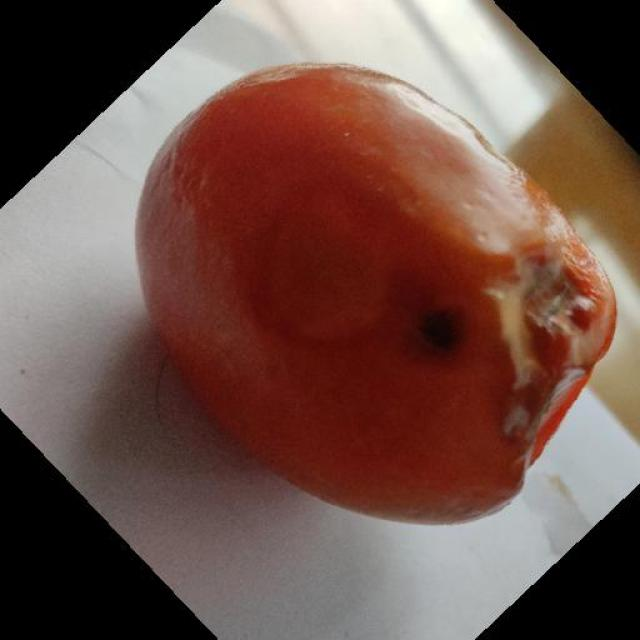Stale_tomato: (169, 84, 616, 520)
